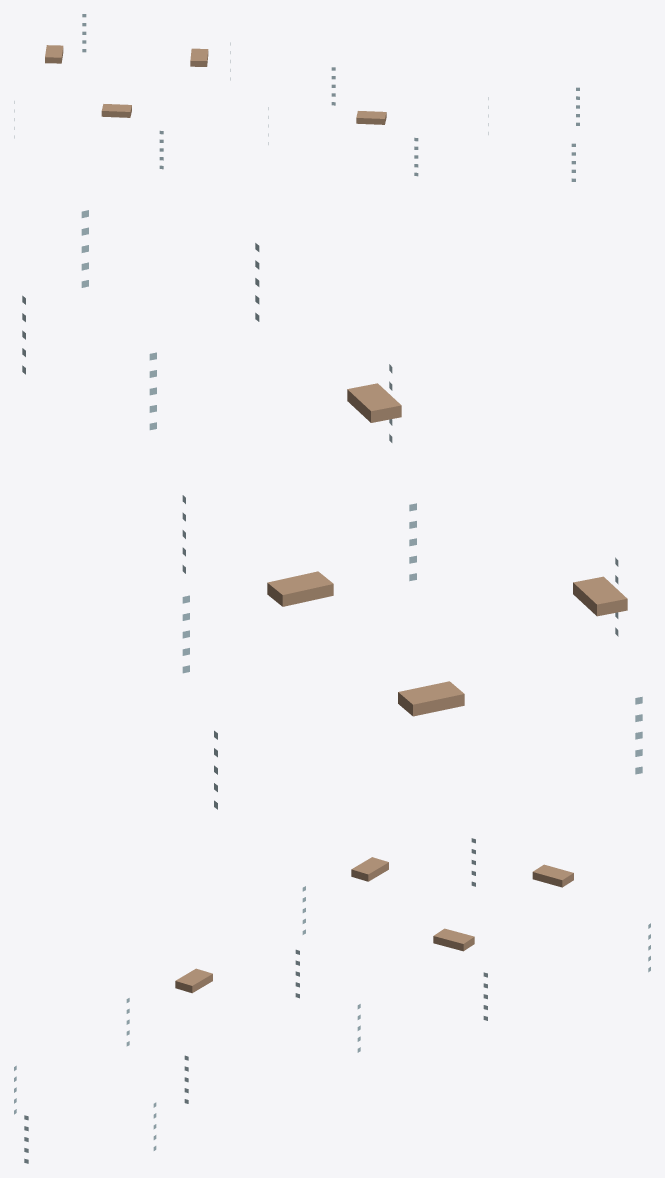
Rendered from Q2_2_face_fix.dae.
The picture shows the model from 3 angles, top to bottom: view 1: azimuth 30°, elevation 25°; view 2: azimuth 150°, elevation 25°; view 3: azimuth 270°, elevation 25°; orthographic projection. The views are drawn at different scales.
Parts seen in each view (by area): view 1: no part large enough to name; view 2: group_88_002, group_88_003; view 3: no part large enough to name.
Boxes of the visible parts, x1,y1,x2,y2 form: group_88_002: [267, 571, 333, 606]; group_88_003: [398, 681, 464, 716].
Bounding box in the file's own units: 211 × 204 × 20.33.
